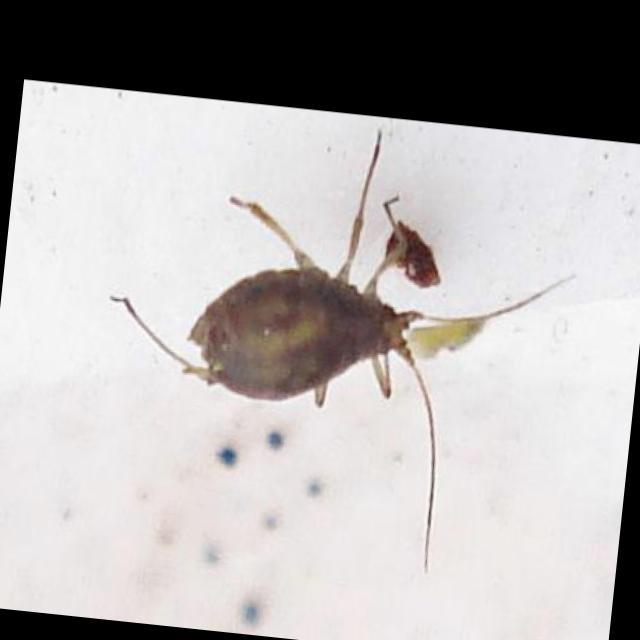Aphid: (132, 151, 500, 473)
